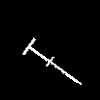double_crochet: (23, 38, 80, 84)
